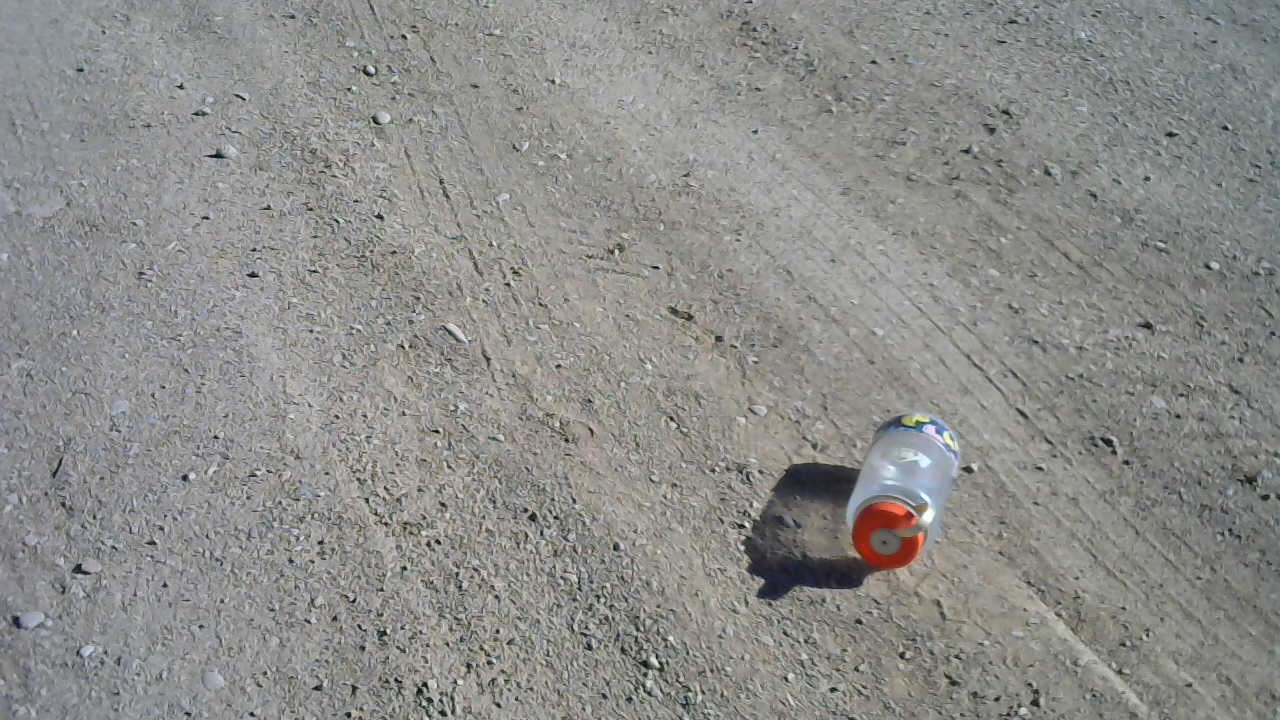bottle: (838, 403, 964, 567)
